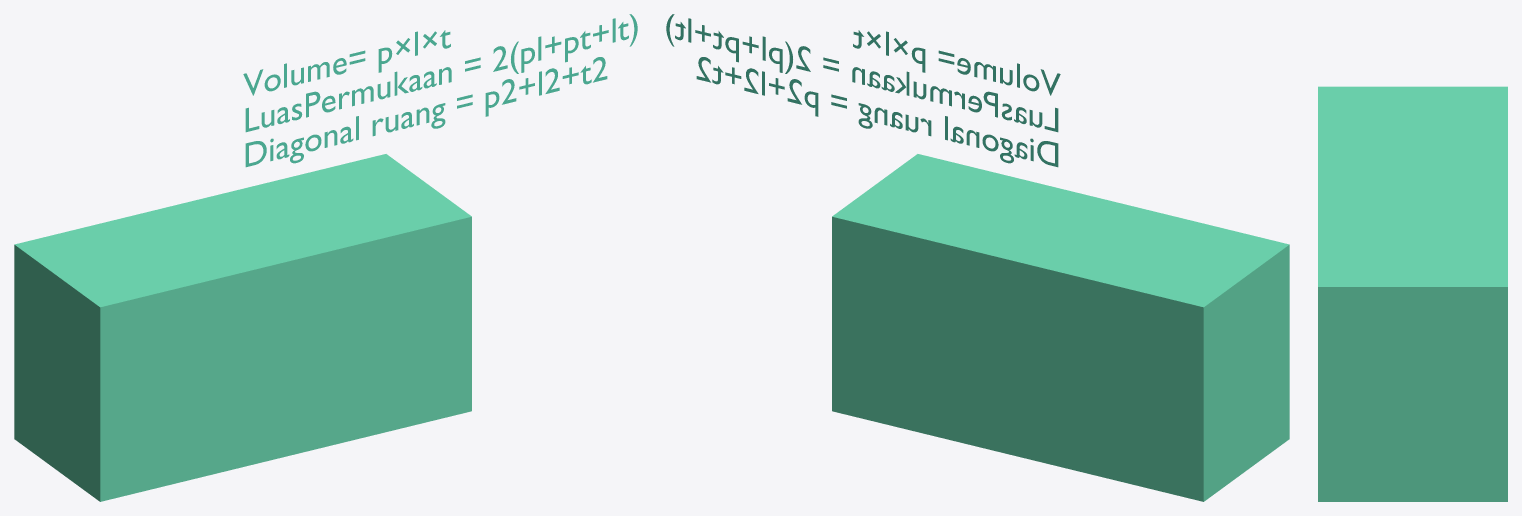
File: balok.glb
3 views of the same model, side by side, from view 1: azimuth 30°, elevation 25°; view 2: azimuth 150°, elevation 25°; view 3: azimuth 270°, elevation 25° (orthographic). The views are drawn at different scales.
Parts seen in each view (by area): view 1: world, Text; view 2: world, Text; view 3: world.
Part boxes in pixels (bbox=[...]): world: bbox=[14, 154, 471, 501]; Text: bbox=[243, 14, 637, 167]; world: bbox=[832, 154, 1289, 501]; Text: bbox=[666, 14, 1060, 167]; world: bbox=[1318, 86, 1507, 501].
Size of the model in its own units: 3.12 by 1.8 by 0.8.
